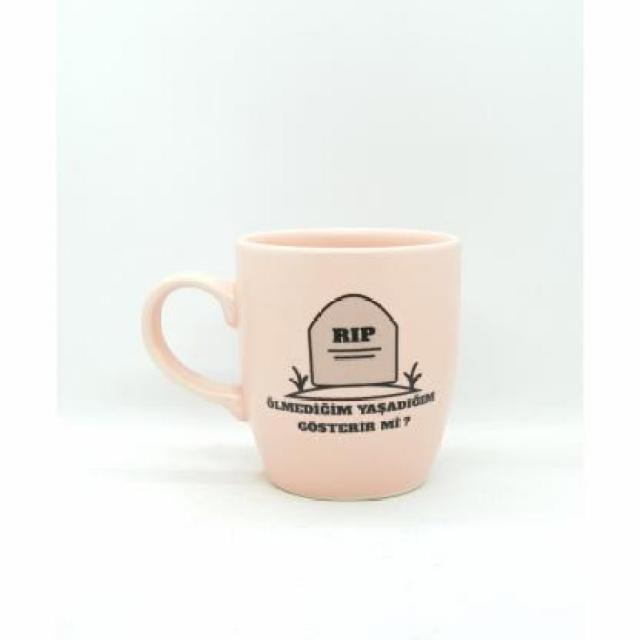taza: (138, 226, 460, 499)
